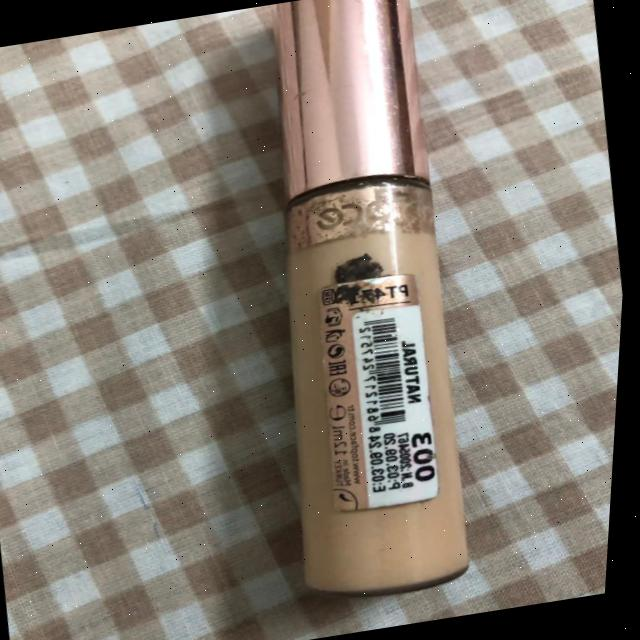concealer: (182, 0, 552, 638)
